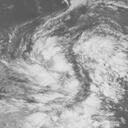cyclone: (15, 34, 120, 121)
